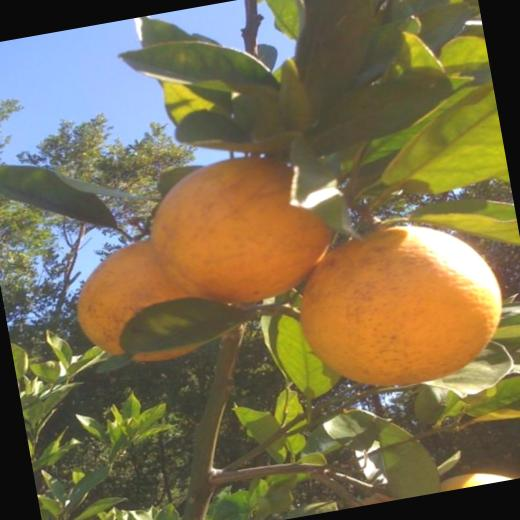Grape: (286, 203, 512, 401), (143, 142, 335, 322), (69, 230, 229, 358)
